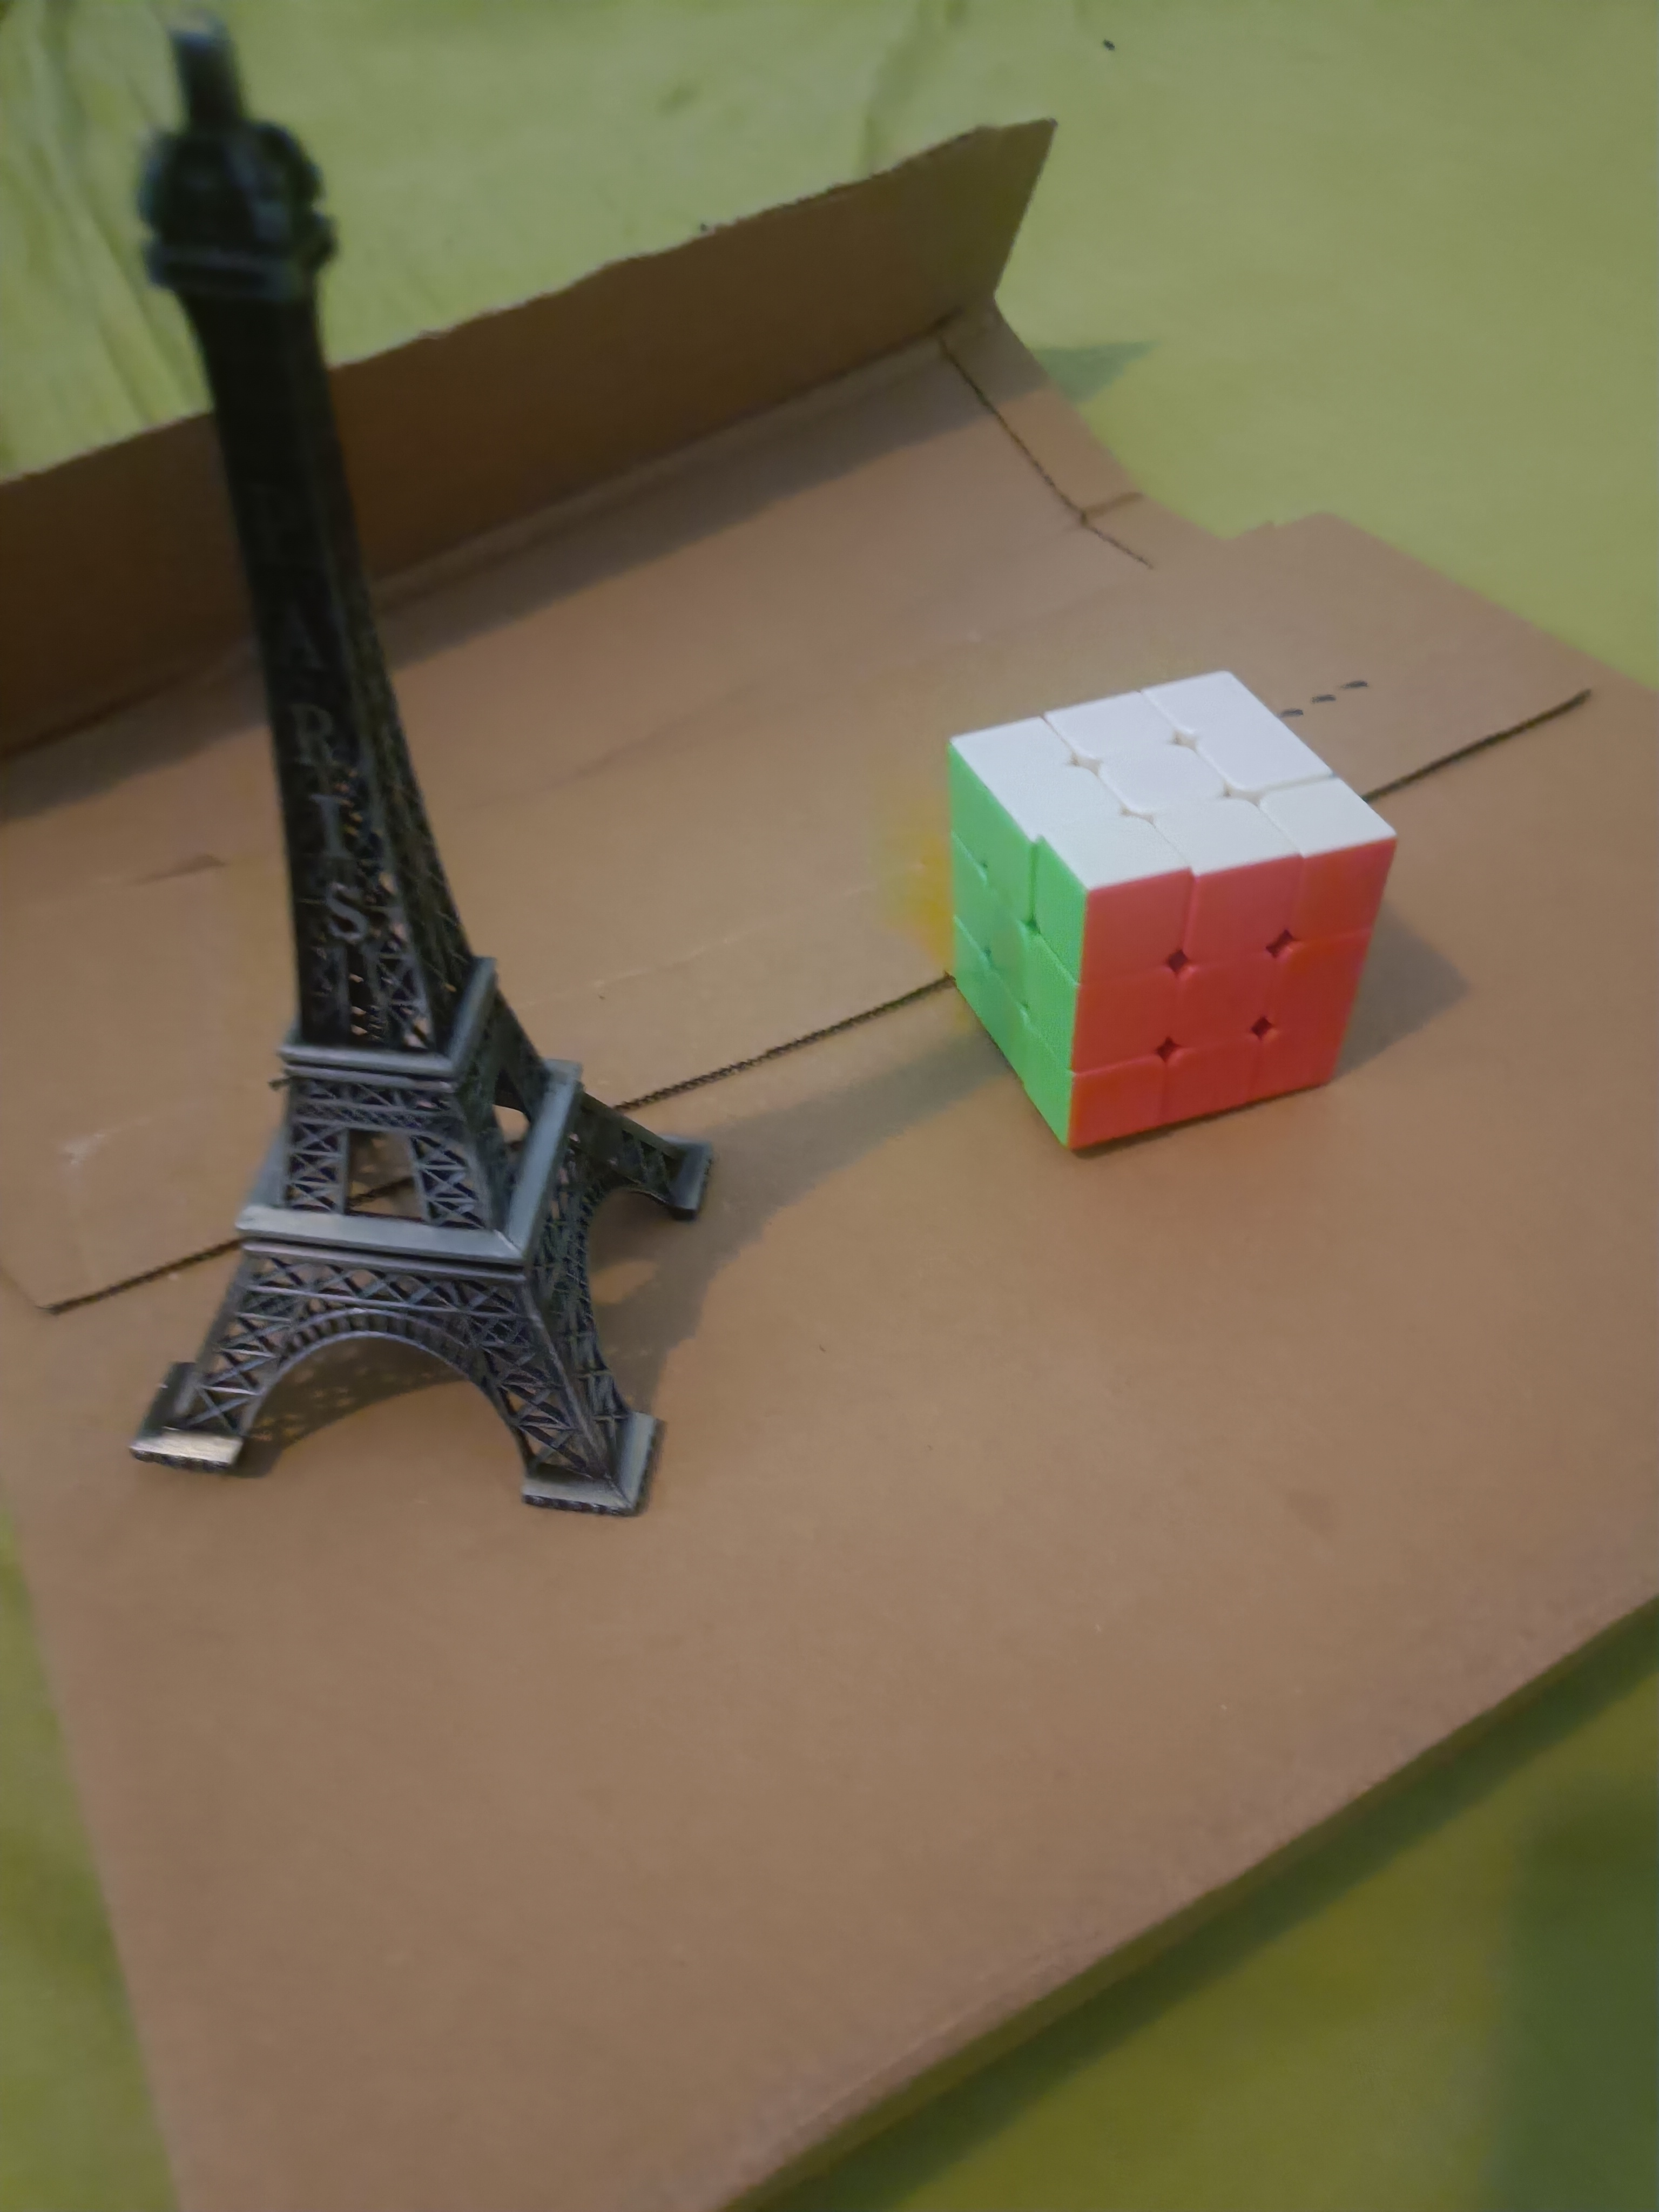Eiffel Tower: (104, 5, 718, 1520)
Rubiks Cube: (937, 635, 1405, 1161)
